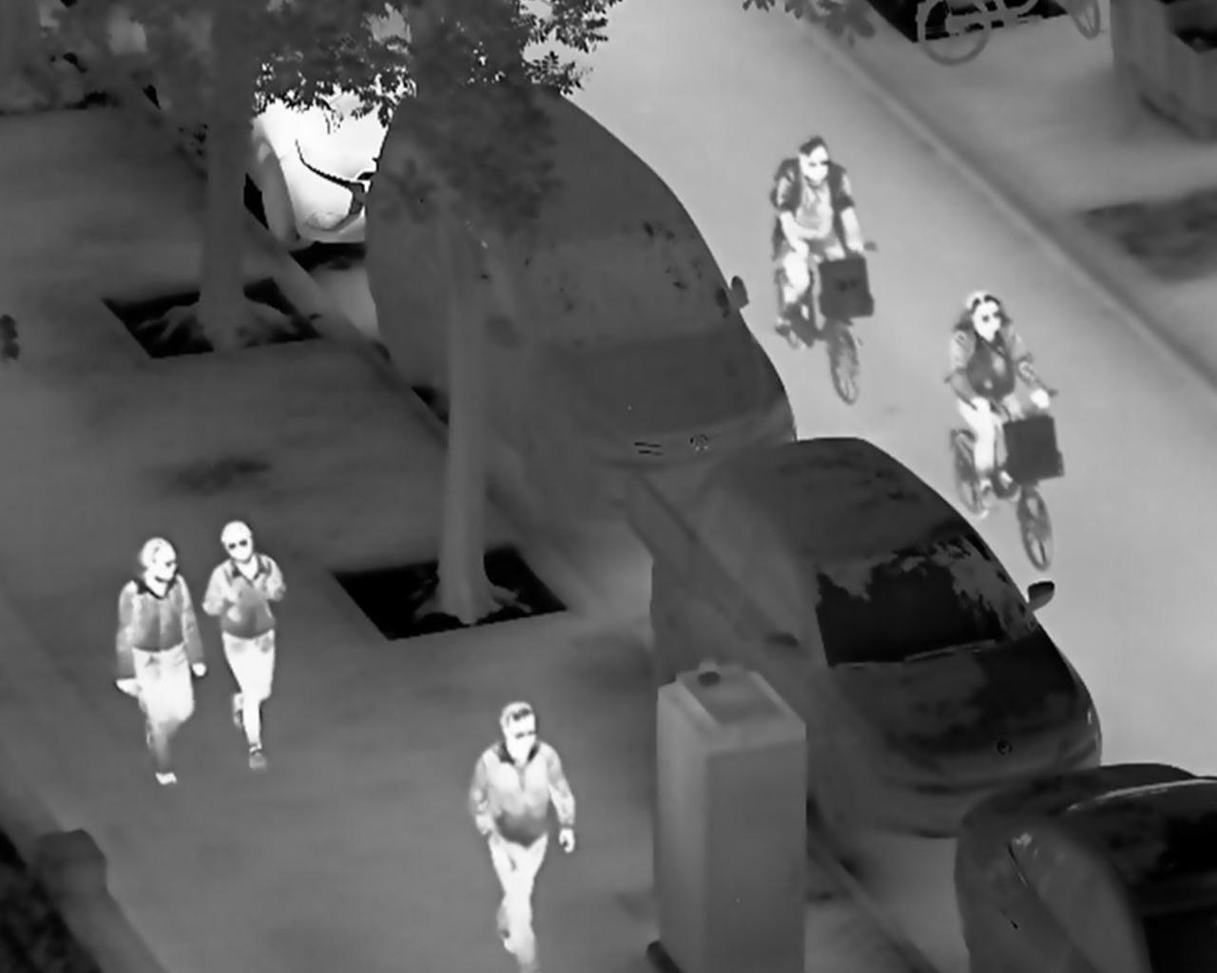person: (466, 699, 579, 973), (109, 532, 210, 785), (949, 284, 1057, 517), (767, 133, 875, 347), (201, 517, 287, 775)
